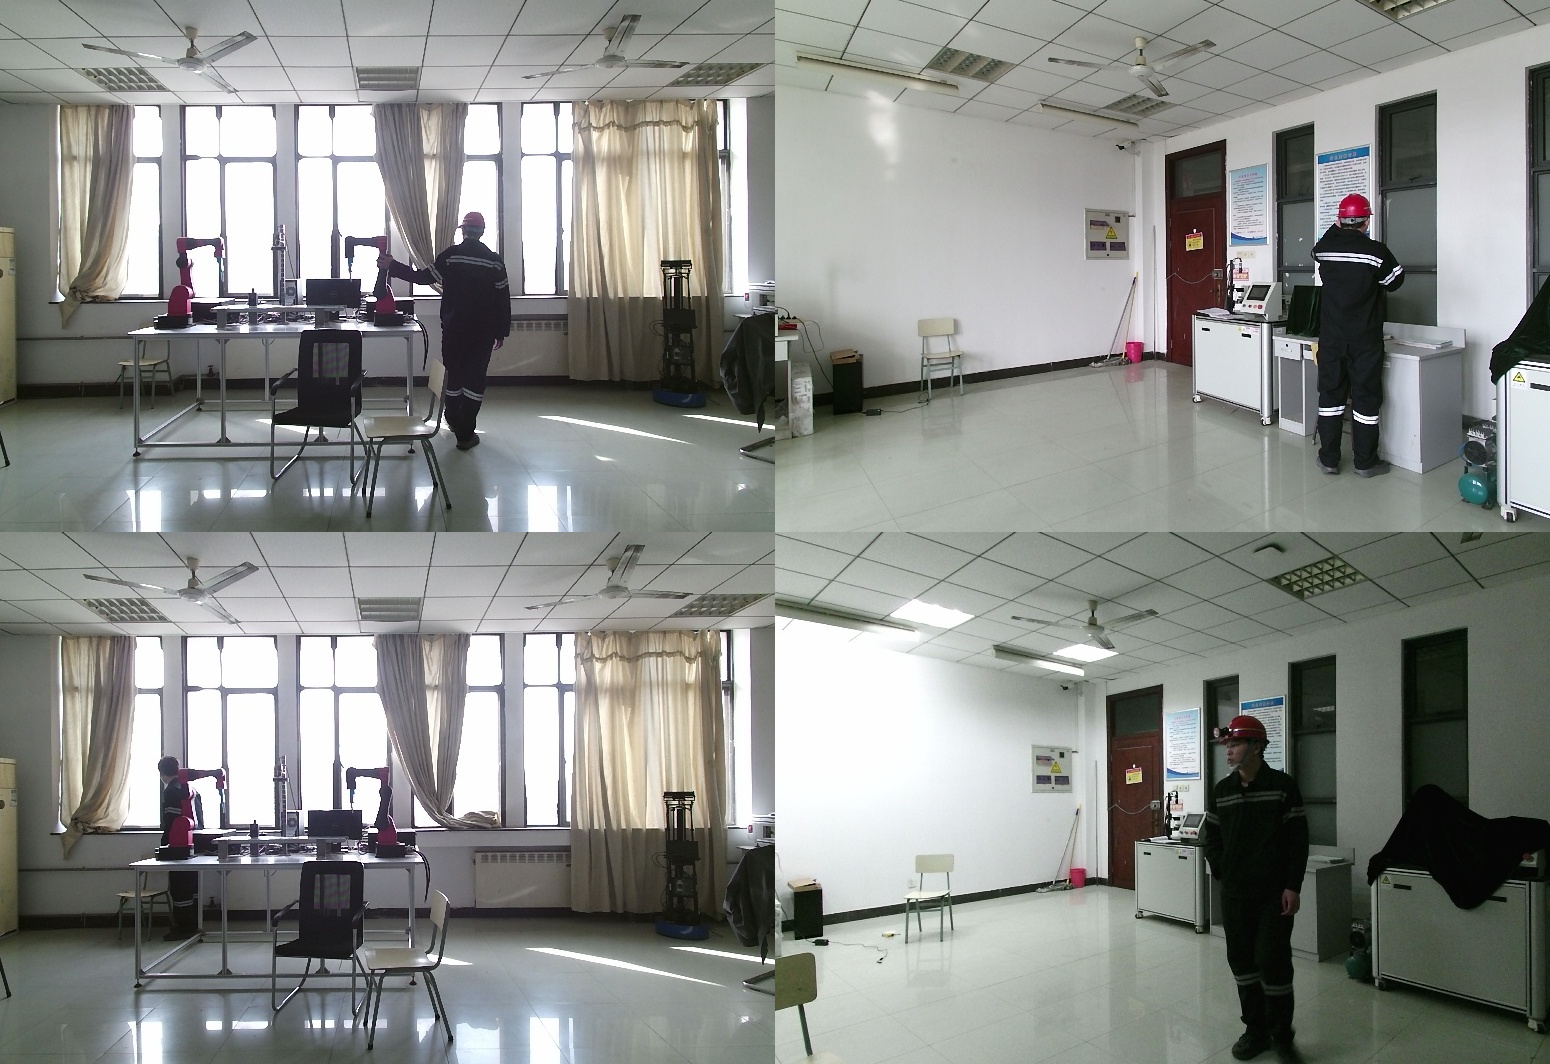person: (1198, 714, 1332, 1064), (379, 213, 521, 452), (1307, 193, 1426, 474), (155, 754, 208, 946)
